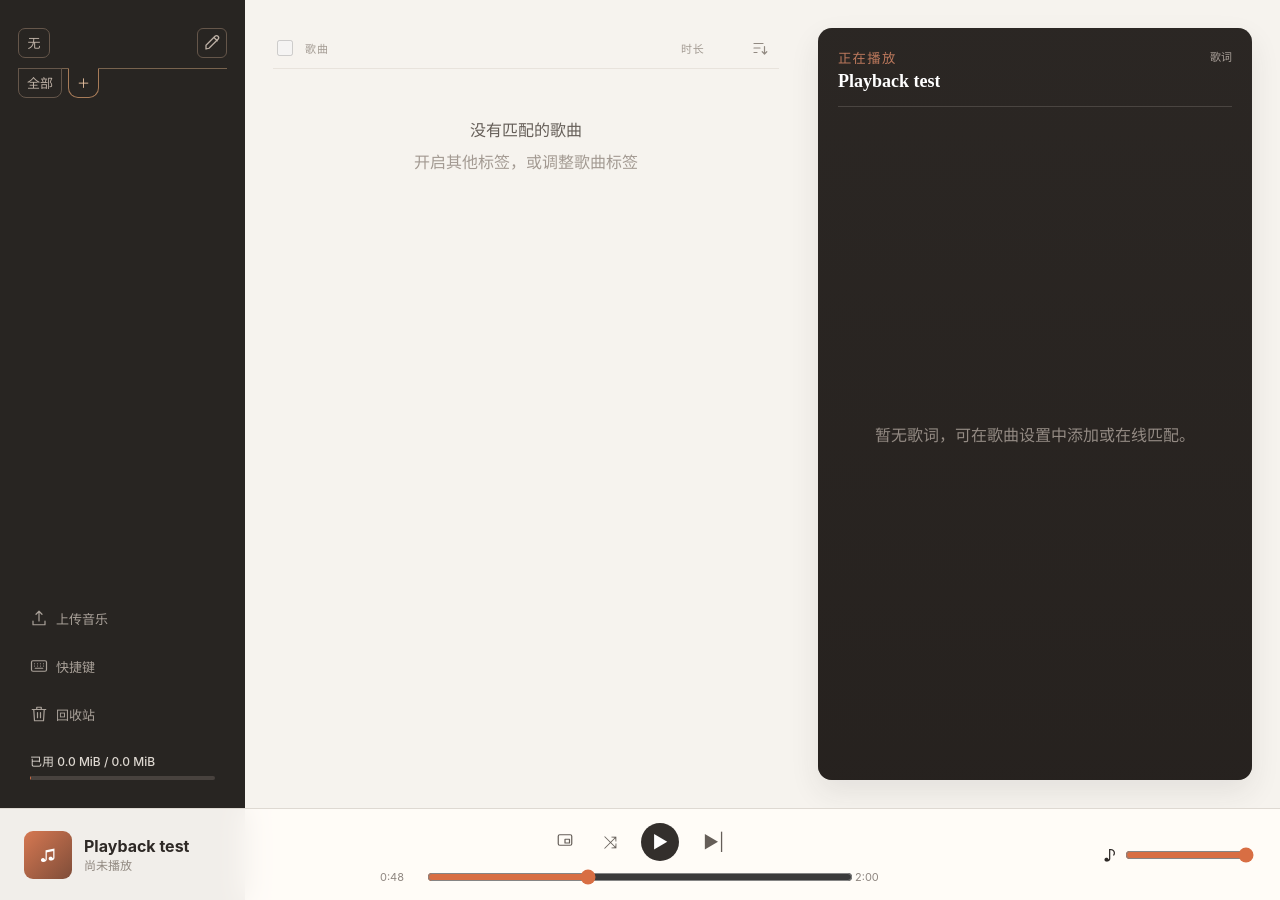
Test: independent playback controls › changes tag switches without stopping the current song and stops at its end if no candidates remain (random)
Earlier steps of the test are not shown.
Click the button with aria-label "应用标签组 默认标签组" at (40, 83), box x1=19 y1=69 x2=61 y2=97
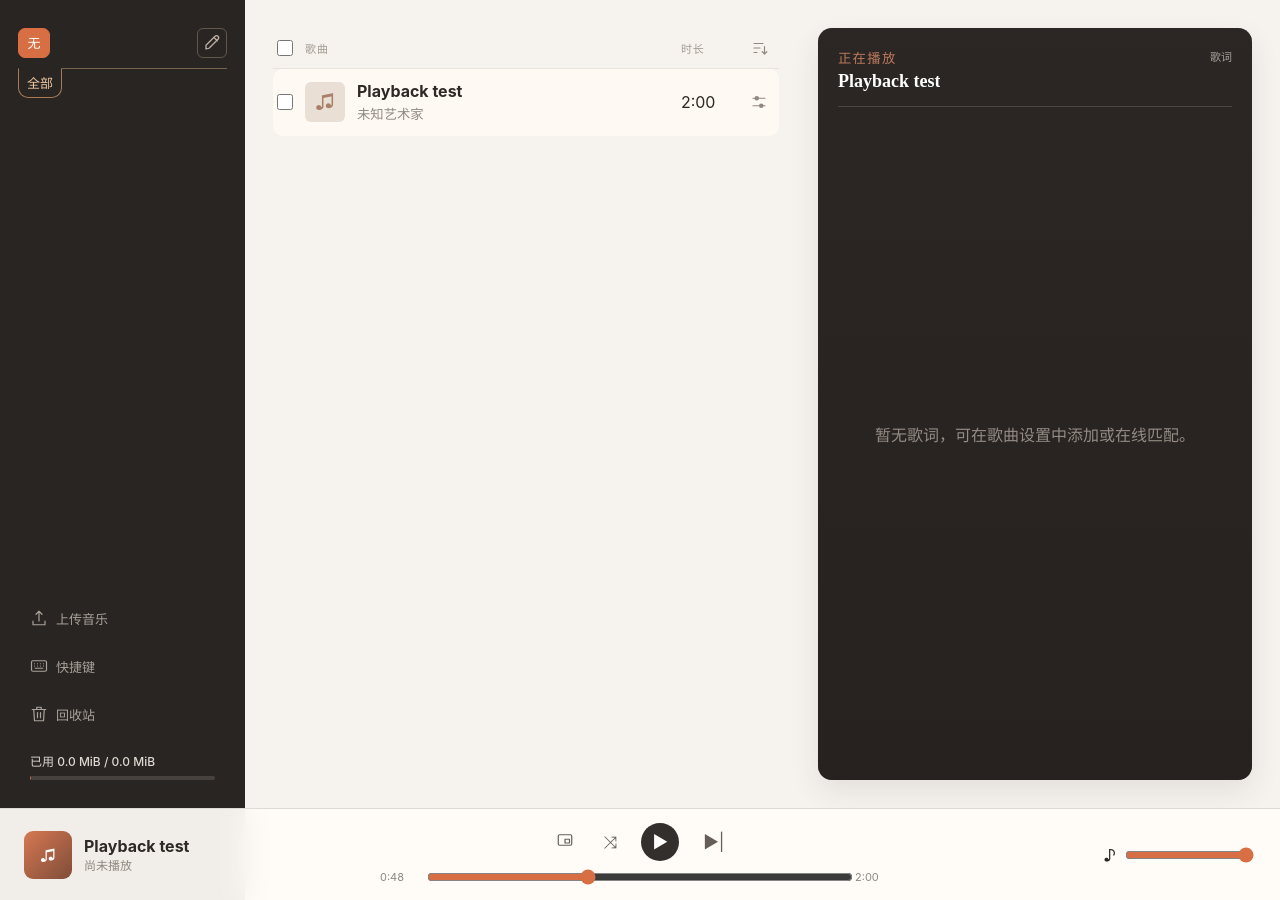
Expected: the element named "歌曲 Playback test" is shown, x1=273 y1=69 x2=779 y2=136
